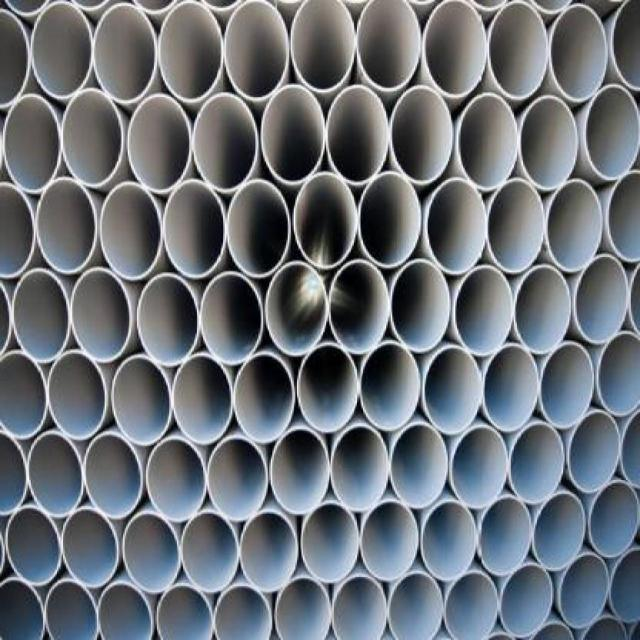pipe: (223, 0, 289, 102), (192, 92, 259, 191), (94, 3, 158, 105), (261, 84, 326, 184), (128, 93, 193, 193), (226, 178, 291, 277), (160, 2, 223, 104), (163, 180, 226, 280), (61, 89, 124, 189), (357, 171, 422, 267), (100, 181, 163, 280), (424, 1, 487, 100), (390, 86, 453, 185), (327, 86, 390, 185), (294, 172, 357, 269), (31, 2, 94, 99), (355, 0, 421, 92), (265, 262, 328, 358), (200, 271, 263, 367), (36, 177, 98, 274), (487, 2, 547, 102), (328, 259, 390, 355), (70, 268, 132, 364), (459, 92, 519, 191), (290, 1, 355, 92), (136, 273, 198, 368), (550, 3, 609, 102), (3, 94, 62, 193), (427, 178, 487, 275), (389, 258, 449, 354), (11, 268, 71, 363), (519, 96, 579, 191), (234, 353, 296, 444), (454, 264, 514, 357), (45, 351, 107, 441), (584, 83, 640, 182), (359, 343, 421, 432), (487, 178, 544, 274), (298, 342, 358, 433), (172, 353, 232, 444), (112, 357, 172, 447), (514, 265, 573, 355), (546, 179, 603, 272), (423, 345, 481, 436), (269, 428, 329, 515), (83, 434, 143, 521), (389, 422, 447, 510), (330, 425, 388, 513), (208, 436, 268, 521), (146, 438, 206, 523), (482, 344, 539, 432), (27, 431, 84, 519), (450, 425, 508, 510), (301, 502, 360, 584), (239, 510, 298, 592), (181, 512, 240, 594), (574, 255, 628, 344), (360, 500, 418, 582), (509, 422, 566, 505), (540, 341, 594, 428), (62, 508, 120, 589), (123, 512, 180, 594), (567, 409, 621, 494), (420, 501, 477, 580), (6, 506, 61, 587), (532, 491, 586, 572), (476, 497, 532, 575), (0, 350, 48, 439), (498, 563, 554, 637), (558, 553, 611, 630), (589, 481, 640, 560), (442, 571, 500, 639), (597, 329, 640, 417), (330, 574, 388, 639), (388, 571, 443, 639), (275, 576, 332, 639), (0, 181, 36, 280), (43, 577, 99, 639), (96, 580, 153, 639), (155, 584, 214, 639), (605, 169, 639, 264), (213, 585, 272, 639), (0, 577, 46, 638), (609, 547, 640, 623)
